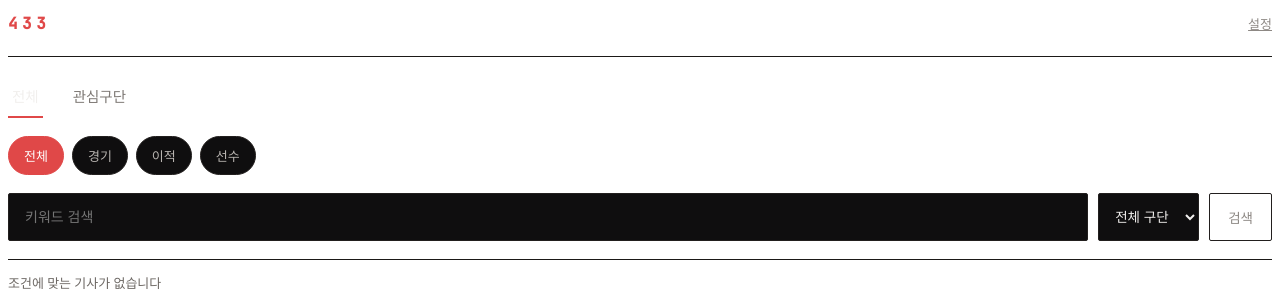
FeedPage 전체/관심구단 탭 › 게스트가 관심구단 탭을 누르면 로그인 안내만 보이고 기사를 조회하지 않는다
Click the tab "관심구단". click: click(99, 96)
box: [69, 75, 130, 118]
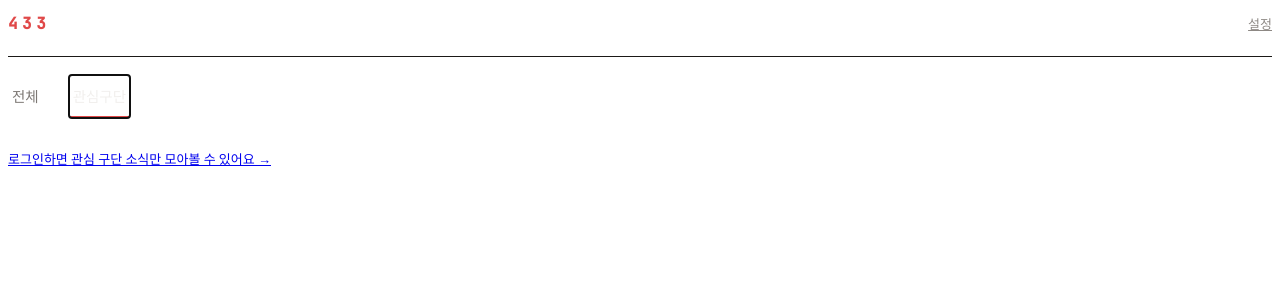
Now the link "로그인하면 관심 구단 소식만 모아볼 수 있어요 →" is shown, box [8, 152, 271, 167]
